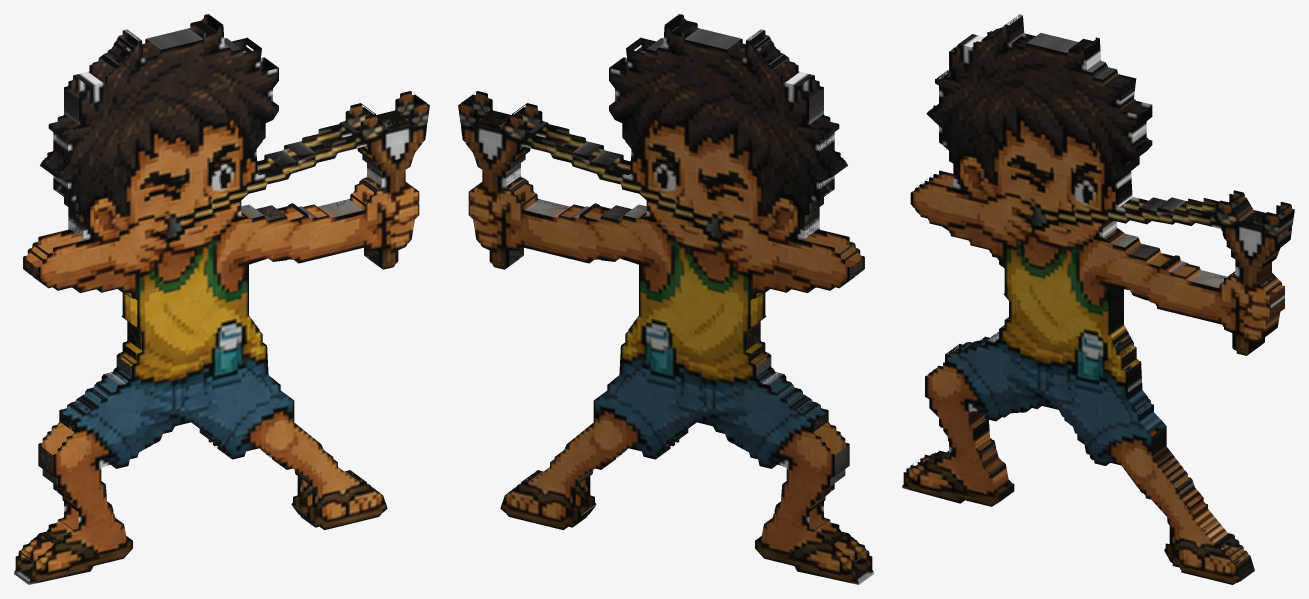
Rendered from attack_slingshot.fbx.
3 views of the same model, side by side, from view 1: azimuth 30°, elevation 25°; view 2: azimuth 150°, elevation 25°; view 3: azimuth 330°, elevation 25° (orthographic). The views are drawn at different scales.
Visible parts, largest first — view 1: geometry_0; view 2: geometry_0; view 3: geometry_0.
Boxes of the visible parts, <box> form: geometry_0: <box>14,14,429,584</box>; geometry_0: <box>458,14,873,584</box>; geometry_0: <box>902,14,1294,584</box>.
Size of the model in its own units: 2.66 by 3.39 by 0.17.
1 material, 1 textured.
